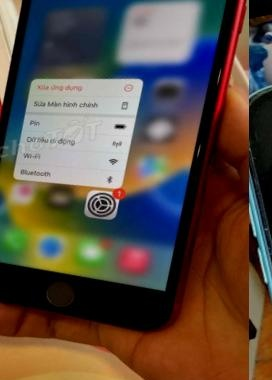scratch: (249, 196, 272, 277), (249, 63, 272, 100)
